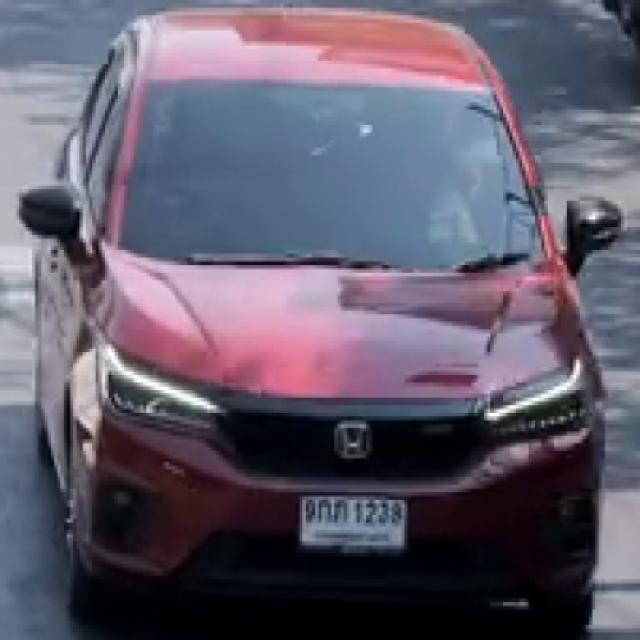plate: (298, 493, 407, 552)
